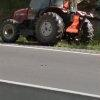Tractor: (5, 0, 92, 57)
